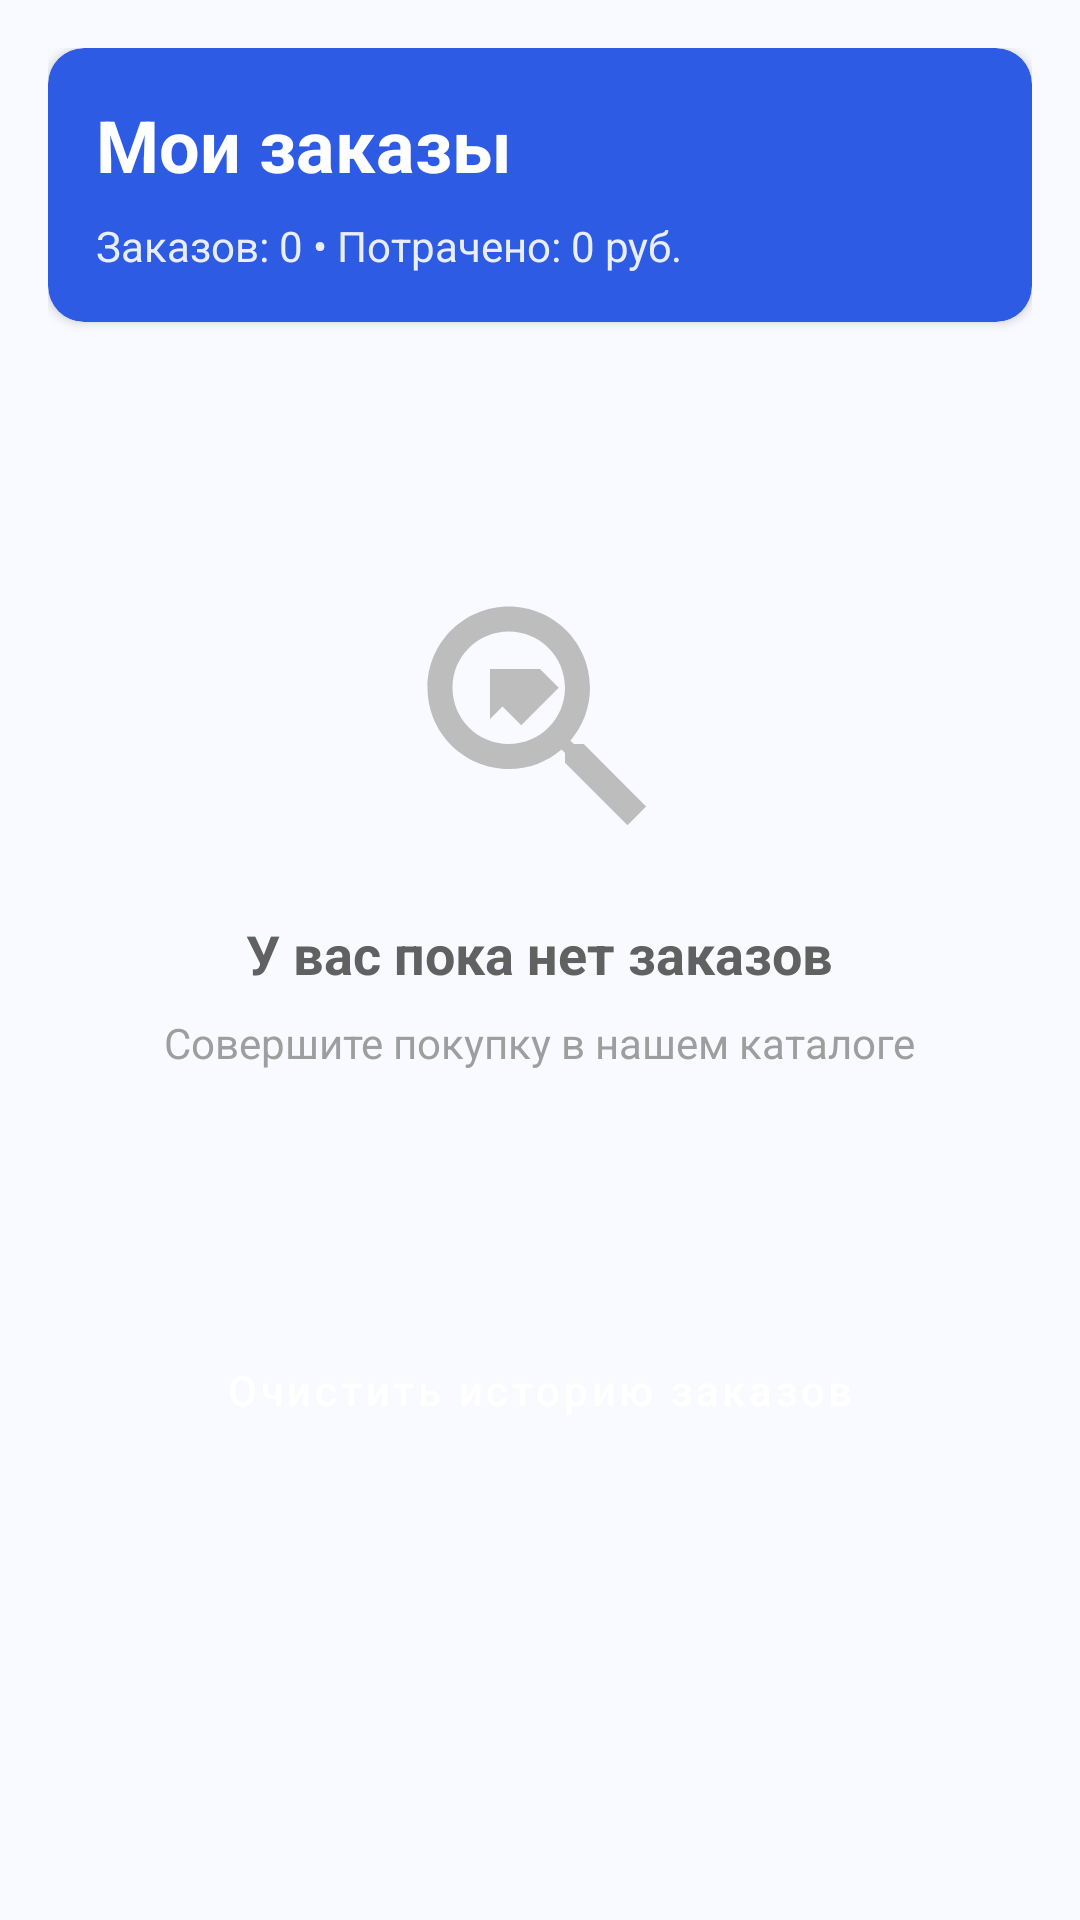

Locate icon controls on the screen. Image size 1080 x 1920, boxes as box=[x1, y1, x2, y2].
empty search: box=[427, 606, 646, 825]
